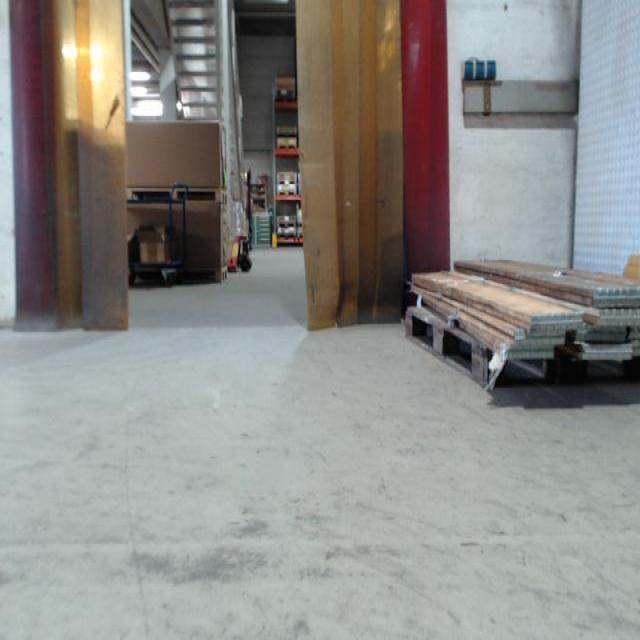pallet: (405, 303, 639, 391), (126, 183, 233, 208), (133, 265, 230, 284), (276, 219, 298, 228), (278, 143, 297, 151), (277, 179, 297, 186), (276, 97, 295, 104), (278, 232, 294, 240), (278, 189, 296, 196)
pallet_truck: (218, 162, 263, 283)
